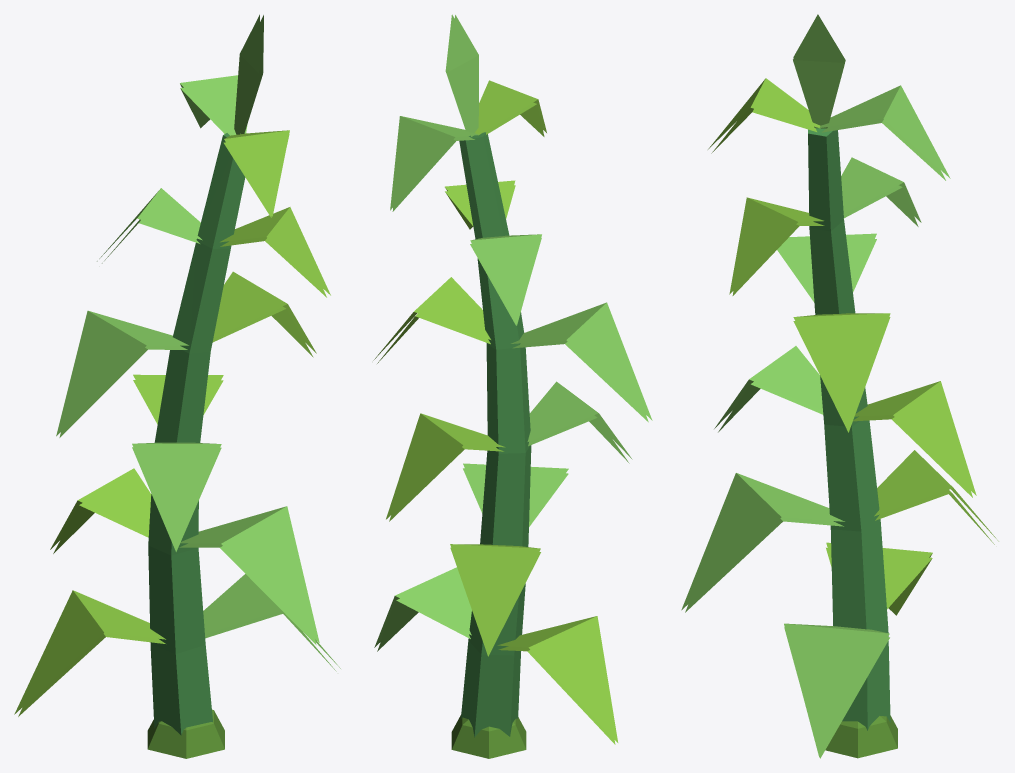
File: kelp_vine_short.fbx
3 views of the same model, side by side, from view 1: azimuth 30°, elevation 25°; view 2: azimuth 150°, elevation 25°; view 3: azimuth 270°, elevation 25° (orthographic). The views are drawn at different scales.
Visible parts, largest first — view 1: kelp_vine_short; view 2: kelp_vine_short; view 3: kelp_vine_short.
Boxes of the visible parts, x1=… form: kelp_vine_short: x1=14, y1=14, x2=340, y2=758; kelp_vine_short: x1=373, y1=14, x2=652, y2=758; kelp_vine_short: x1=681, y1=14, x2=998, y2=758.
Size of the model in its own units: 1053 by 2519 by 968.
Materials: 1 (1 with a texture image).
